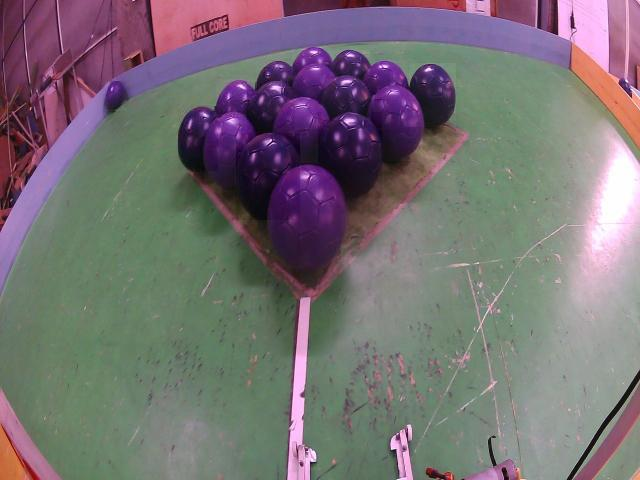jambhalya: (267, 165, 347, 270), (367, 85, 423, 161), (204, 114, 256, 188), (274, 97, 328, 163), (293, 63, 335, 102), (363, 60, 408, 95), (216, 80, 256, 116), (293, 47, 331, 73), (105, 81, 126, 111)
kaalyya: (236, 134, 300, 220), (318, 112, 382, 198), (409, 63, 456, 127), (178, 106, 218, 171), (247, 82, 295, 133), (322, 75, 371, 120), (330, 50, 370, 80), (256, 62, 295, 88)
